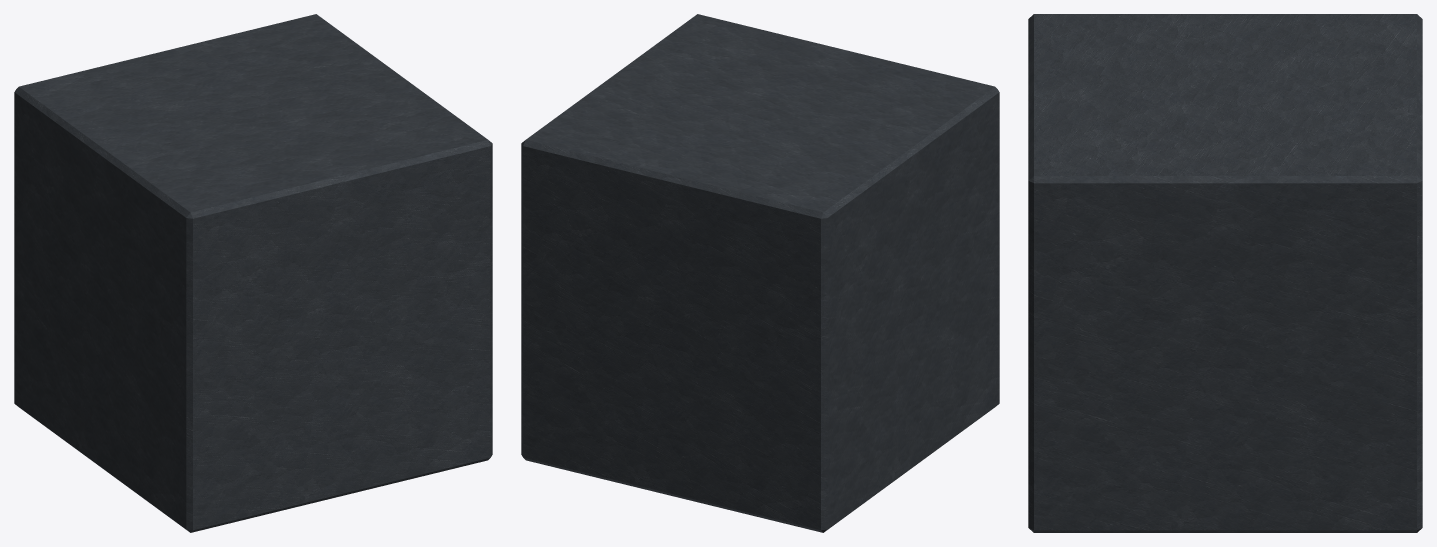
The model's file is train_dark_steel_block.gltf.
3 renders of one model, left to right at view 1: azimuth 30°, elevation 25°; view 2: azimuth 150°, elevation 25°; view 3: azimuth 270°, elevation 25°, orthographic. The views are drawn at different scales.
Bounding box in the file's own units: 1 × 1 × 1.
2 materials, 2 textured.
